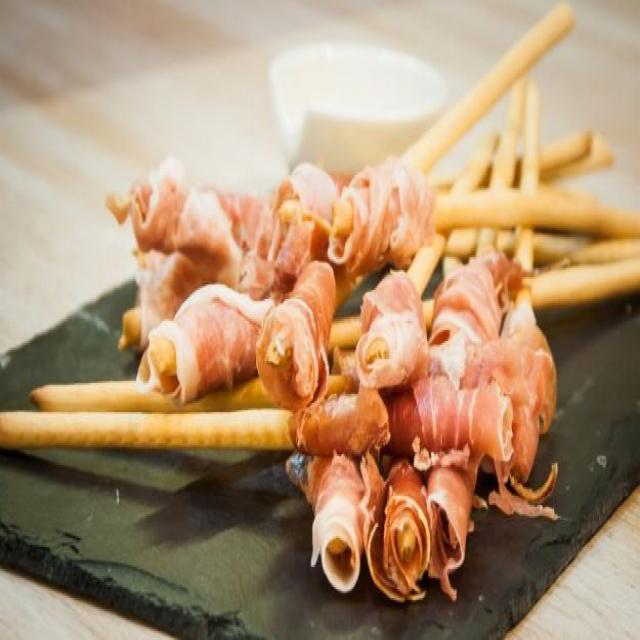Grissini: (23, 59, 617, 577)
